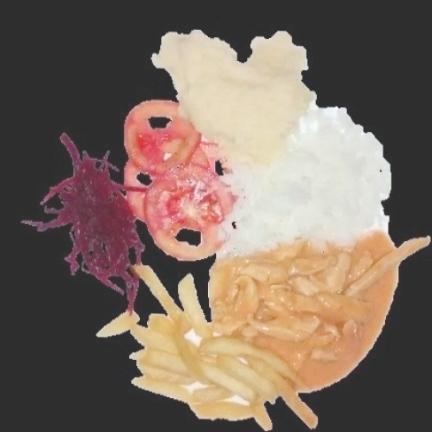beet: (24, 133, 143, 311)
chicken: (209, 232, 429, 390)
potato: (132, 265, 317, 429), (154, 29, 315, 165)
rice: (219, 103, 391, 256)
tomato: (124, 99, 235, 259)
